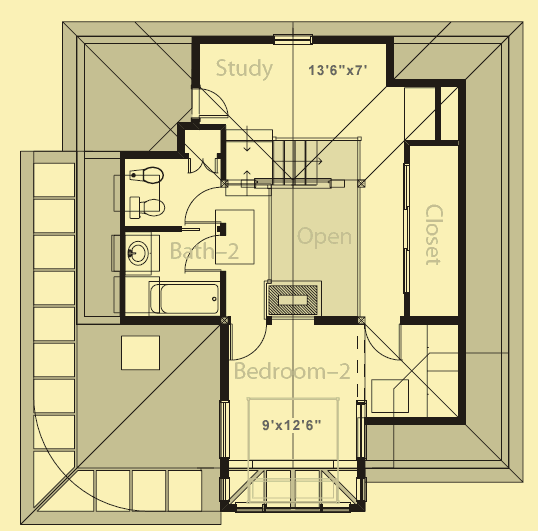door: (363, 321, 408, 364), (180, 234, 223, 276), (185, 187, 227, 225), (230, 321, 272, 359), (192, 86, 230, 118), (187, 158, 219, 175)
large_sink: (126, 231, 161, 273), (128, 192, 167, 221)
stairs: (222, 127, 350, 191)
tub: (146, 279, 222, 318)
windows: (400, 161, 413, 296), (353, 399, 370, 459), (219, 399, 231, 460), (271, 32, 313, 48), (218, 477, 233, 503)
